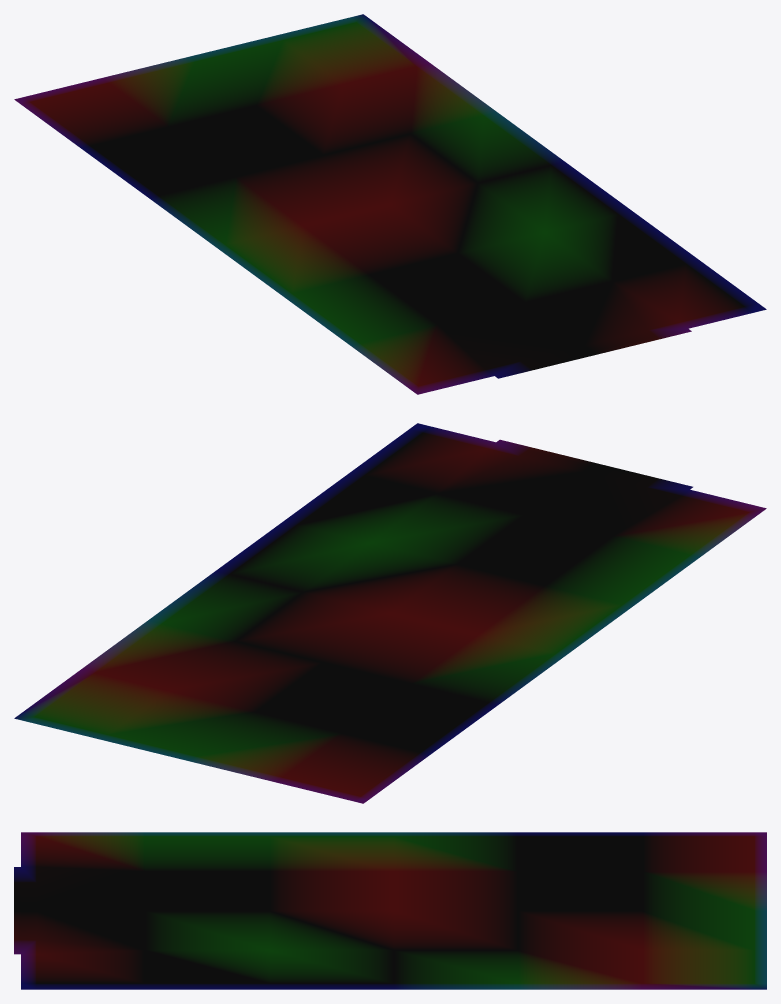
Rendered from Hnager_Floor.fbx.
3 views of the same model, one above another, from view 1: azimuth 30°, elevation 25°; view 2: azimuth 150°, elevation 25°; view 3: azimuth 270°, elevation 25° (orthographic). The views are drawn at different scales.
Visible parts, largest first — view 1: Hnager_Floor; view 2: Hnager_Floor; view 3: Hnager_Floor.
Part boxes in pixels (x1,y1,x2,y2): Hnager_Floor: (14, 14, 766, 394); Hnager_Floor: (14, 423, 766, 803); Hnager_Floor: (14, 832, 766, 989).
Size of the model in its own units: 4000 by 0 by 8074.
